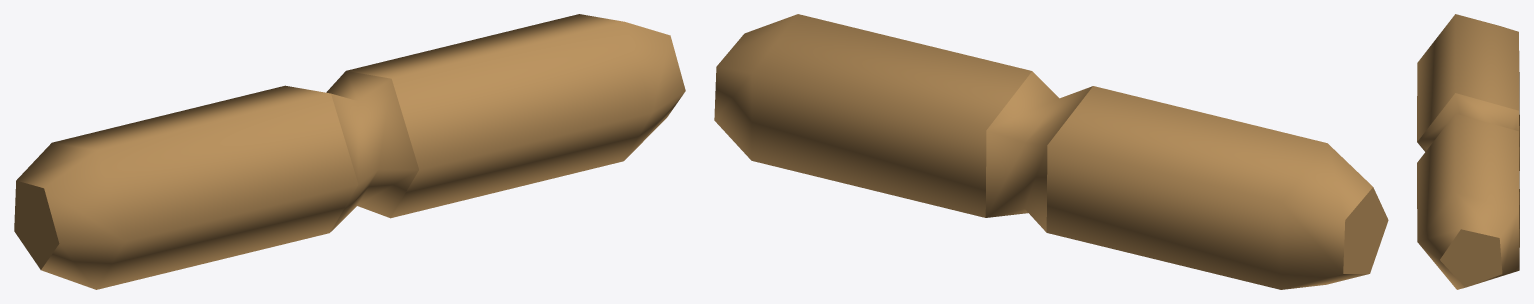
File: Longbow-pullmesh.FBX
The picture shows the model from 3 angles, left to right: view 1: azimuth 30°, elevation 25°; view 2: azimuth 150°, elevation 25°; view 3: azimuth 270°, elevation 25°; orthographic projection. The views are drawn at different scales.
Parts seen in each view (by area): view 1: PullMesh; view 2: PullMesh; view 3: PullMesh.
Boxes of the visible parts, left/top/right/bottom form: PullMesh: left=14, top=14, right=685, bottom=289; PullMesh: left=714, top=14, right=1388, bottom=289; PullMesh: left=1417, top=14, right=1519, bottom=289.
Bounding box in the file's own units: 50.56 × 10.83 × 10.35.
